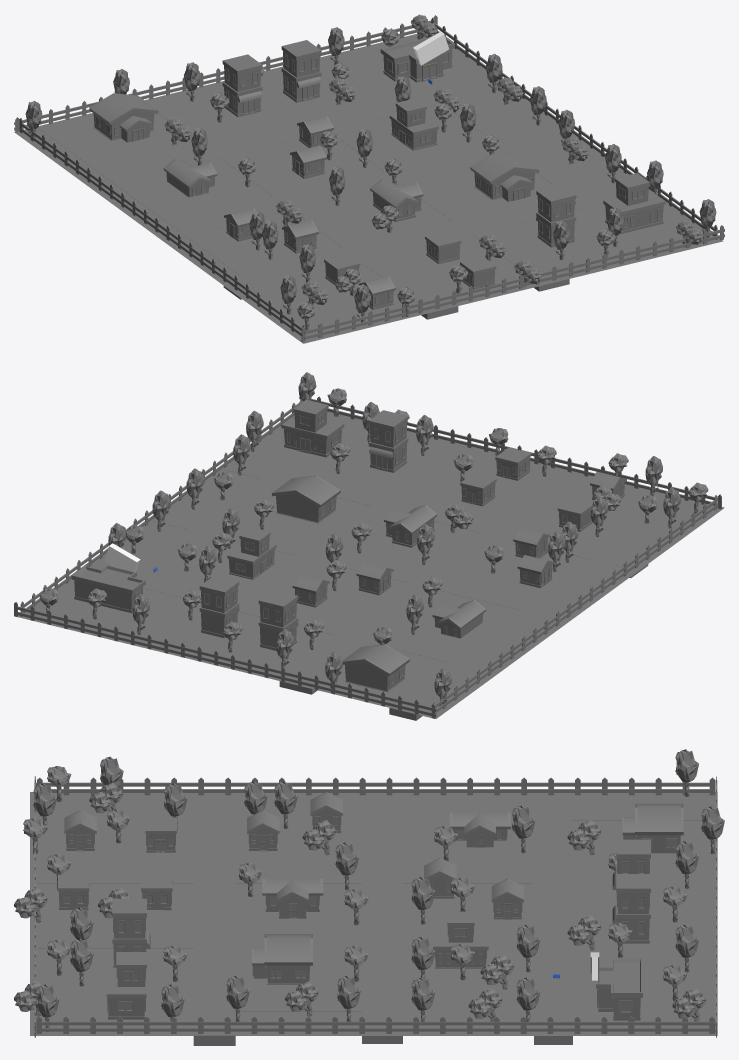
File: casitas_cercadas.fbx
3 views of the same model, one above another, from view 1: azimuth 30°, elevation 25°; view 2: azimuth 150°, elevation 25°; view 3: azimuth 270°, elevation 25° (orthographic). The views are drawn at different scales.
Visible parts, largest first — view 1: Plane002, Line001, Box066, Box052, Tienda001, Box136, Box135, Box050, Box164, Box163, Box055, Box065 (+23 smaller); view 2: Plane002, Line001, Box052, Box066, Tienda001, Box107, Box108, Box050, Box164, Box163, Box055, Box065 (+21 smaller); view 3: Plane002, Line001, Box191, Box163, Box192, Tienda001, Box164, Box052, Box066, Box050, Box085, Box049 (+41 smaller).
Boxes of the visible parts, x1,y1,x2,y2 form: Plane002: (14, 34, 723, 343); Line001: (38, 76, 616, 319); Box066: (89, 93, 158, 140); Box052: (470, 152, 539, 200); Tienda001: (380, 36, 454, 82); Box136: (304, 234, 724, 339); Box135: (304, 228, 724, 333); Box050: (603, 189, 665, 233); Box164: (21, 128, 301, 335); Box163: (21, 123, 302, 330); Box055: (370, 179, 418, 221); Box065: (163, 159, 212, 197); Plane002: (16, 411, 724, 718); Line001: (90, 444, 648, 720); Box052: (271, 475, 340, 523); Box066: (342, 644, 409, 692); Tienda001: (71, 564, 145, 612); Box107: (16, 606, 436, 711); Box108: (16, 612, 436, 716); Box050: (281, 416, 344, 457); Box164: (435, 504, 717, 712); Box163: (435, 498, 717, 707); Box055: (389, 505, 437, 547); Box065: (437, 600, 486, 638); Plane002: (30, 792, 717, 1035); Line001: (36, 796, 712, 1045); Box191: (40, 1021, 715, 1025); Box163: (36, 782, 711, 786); Box192: (40, 1028, 715, 1031); Tienda001: (596, 957, 642, 1020); Box164: (51, 789, 711, 792); Box052: (264, 934, 312, 984); Box066: (635, 803, 683, 853); Box050: (106, 967, 146, 1019); Box085: (433, 931, 488, 968); Box049: (112, 898, 146, 938).
Bounding box in the file's own units: 3100 × 491 × 3791.
